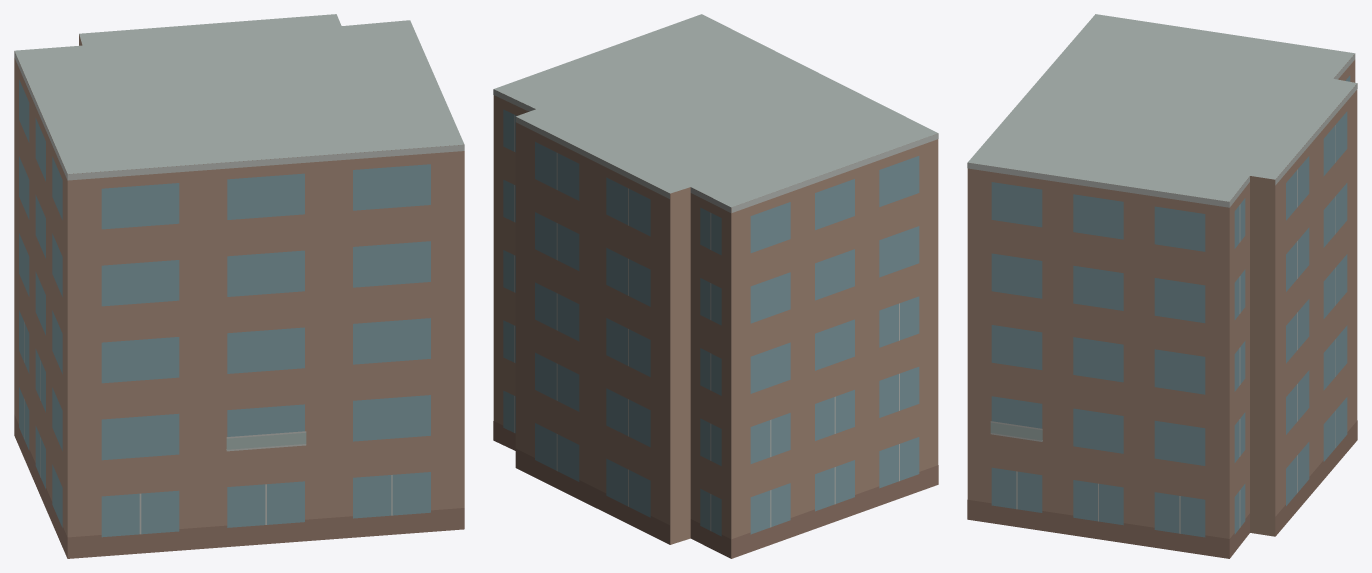
The model's file is survey-upis-32698093.glb.
3 views of the same model, side by side, from view 1: azimuth 30°, elevation 25°; view 2: azimuth 150°, elevation 25°; view 3: azimuth 270°, elevation 25° (orthographic). The views are drawn at different scales.
Parts seen in each view (by area): view 1: survey-upis-32698093.tmp; view 2: survey-upis-32698093.tmp; view 3: survey-upis-32698093.tmp.
Boxes of the visible parts, x1,y1,x2,y2 form: survey-upis-32698093.tmp: (14, 14, 464, 558); survey-upis-32698093.tmp: (493, 14, 938, 558); survey-upis-32698093.tmp: (967, 14, 1357, 558).
Bounding box in the file's own units: 16.71 × 14.8 × 14.66.
